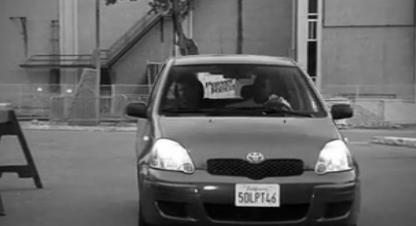license plate: (233, 178, 281, 206)
